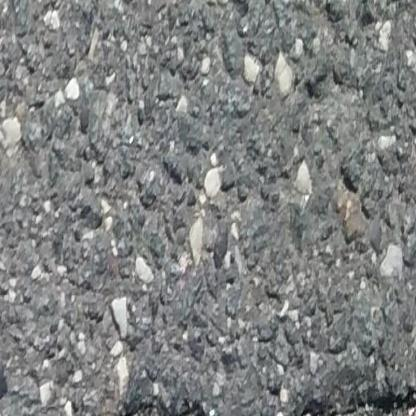Cracks: (290, 387, 416, 416), (82, 402, 220, 416)
